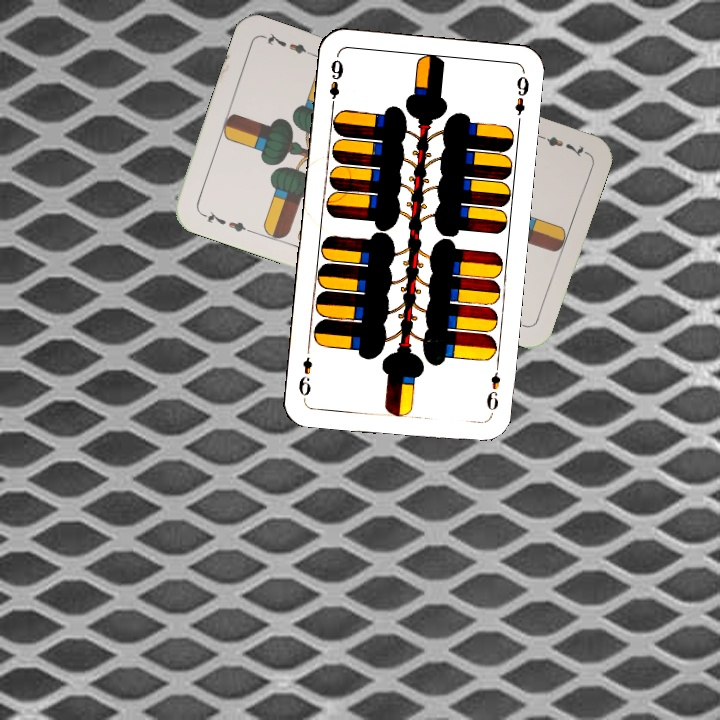E7: (531, 129, 588, 160), (197, 207, 254, 236)
E9: (325, 52, 346, 112), (482, 359, 503, 418)
